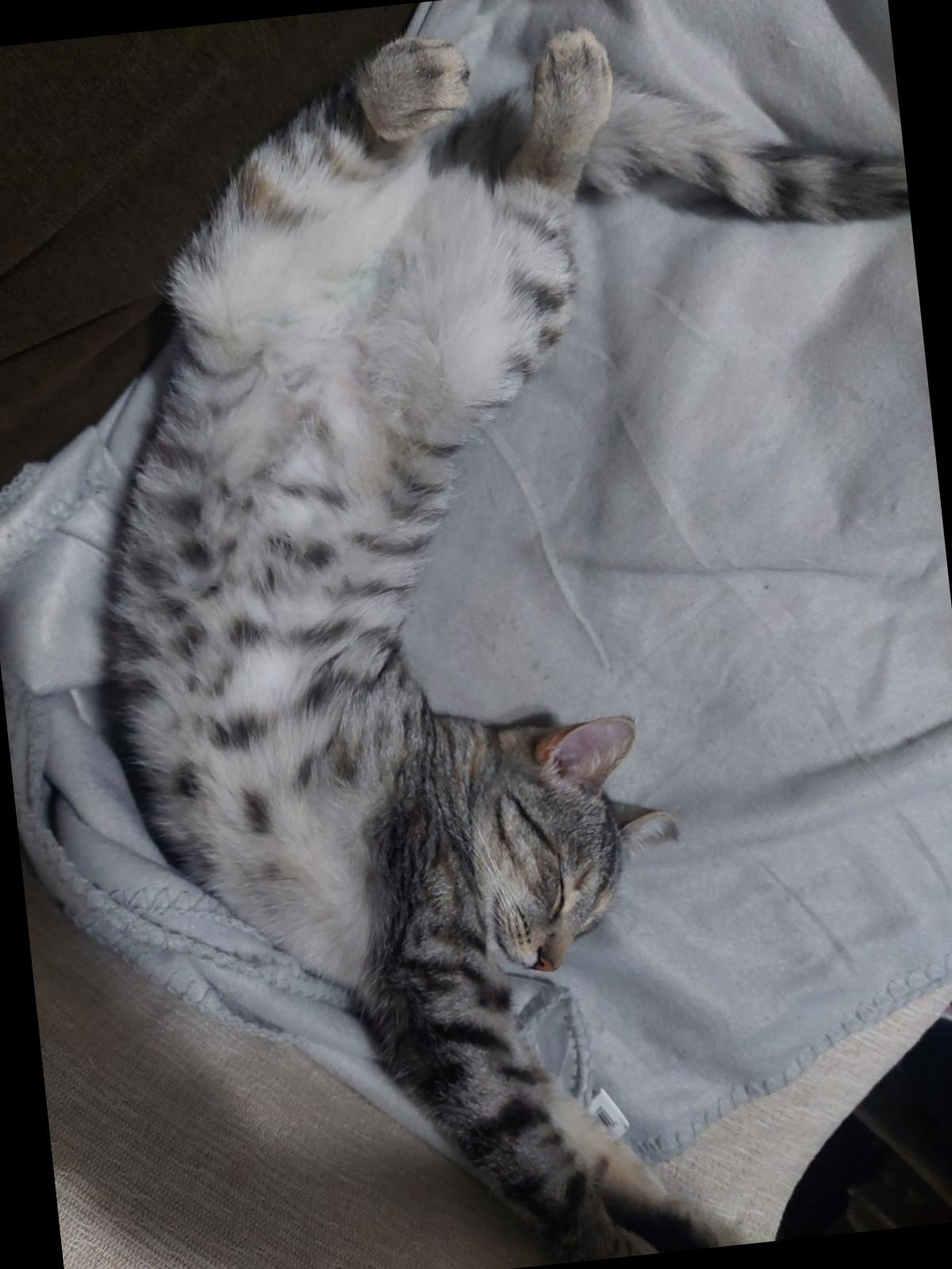macka: (43, 0, 952, 1269)
